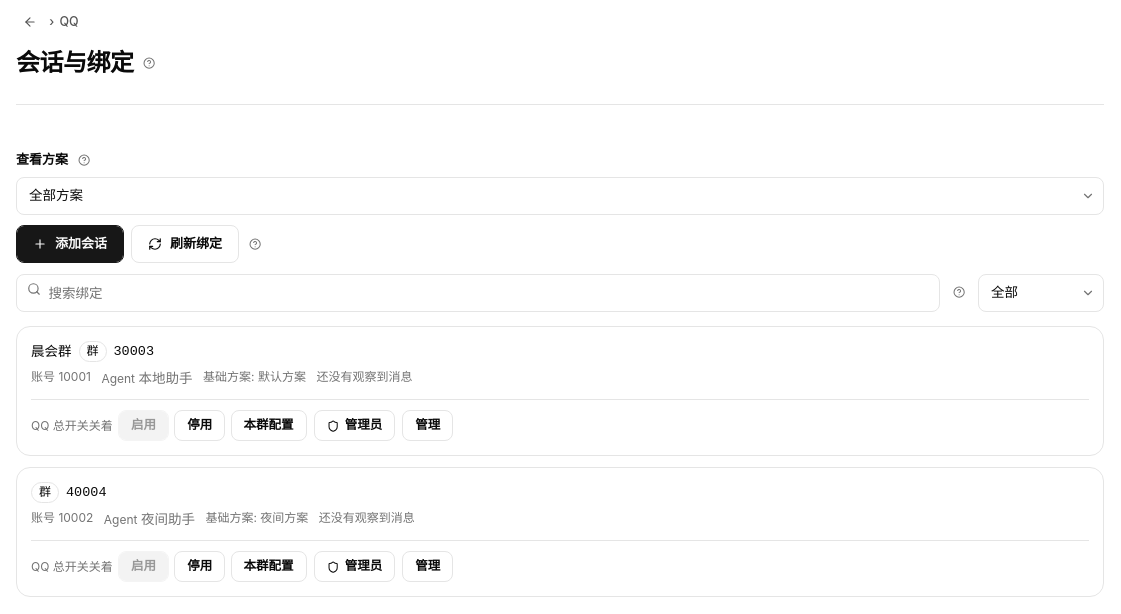
搜索命中显示名、群号、账号、方案名或 Agent 名
This screenshot has width=1121, height=614.
Type "晨会" into the field named "搜索会话绑定" at (478, 292), box [16,274,940,312]
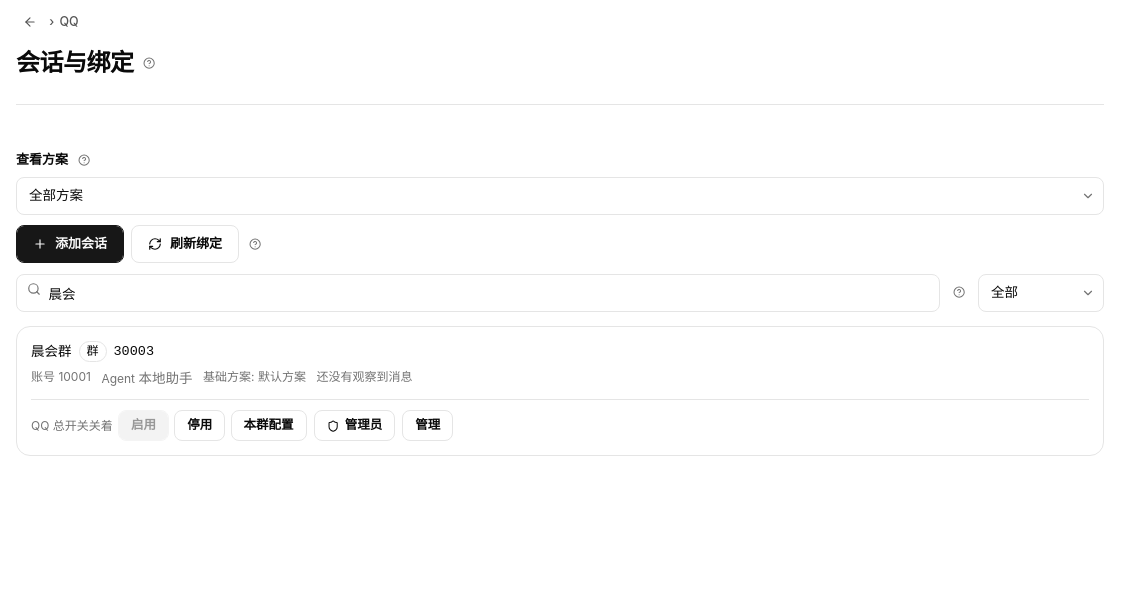
Expected: the text "30003" is shown, [114,342,154,361]
Now the text "40004" is gone
Replace the text in the field named "搜索会话绑定" with "40004" at (478, 292), box [16,274,940,312]
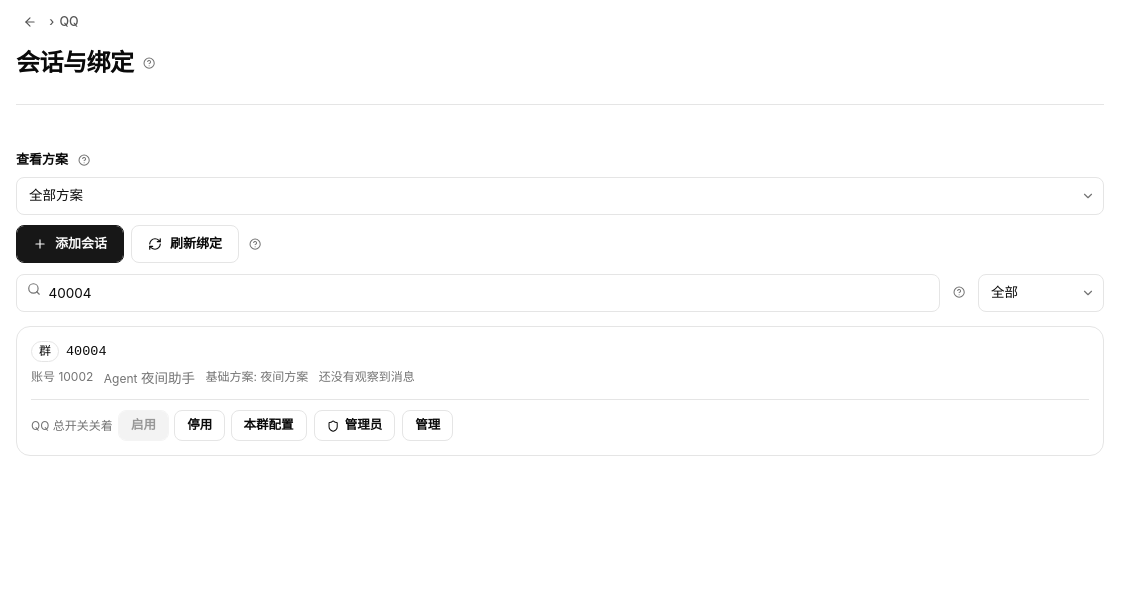
Now the text "30003" is gone
Now the text "40004" is shown, box [66,342,106,361]
Replace the text in the field named "搜索会话绑定" with "10002" at (478, 292), box [16,274,940,312]
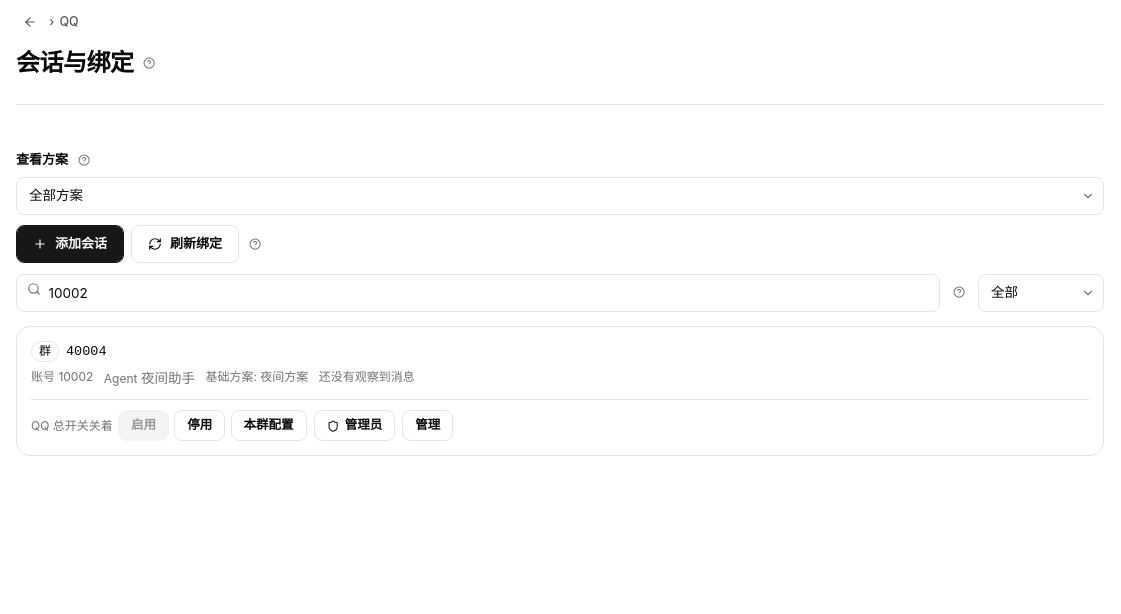
Expected: the text "30003" is not shown
Now the text "40004" is shown, box [66,342,106,361]
Replace the text in the field named "搜索会话绑定" with "夜间方案" at (478, 292), box [16,274,940,312]
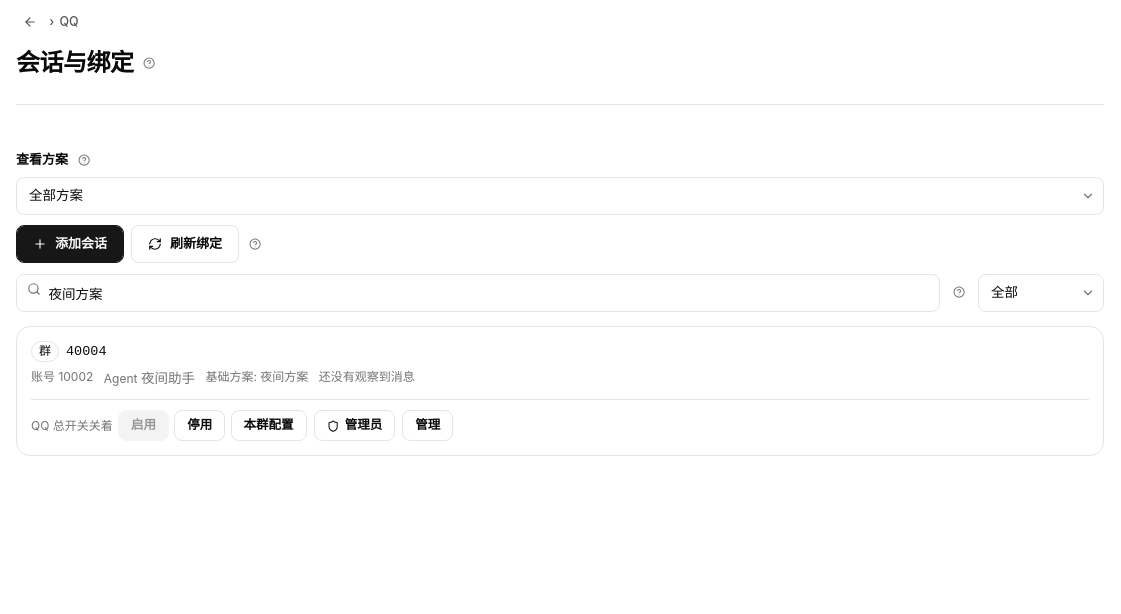
Now the text "40004" is shown, box [66,342,106,361]
Replace the text in the field named "搜索会话绑定" with "本地助手" at (478, 292), box [16,274,940,312]
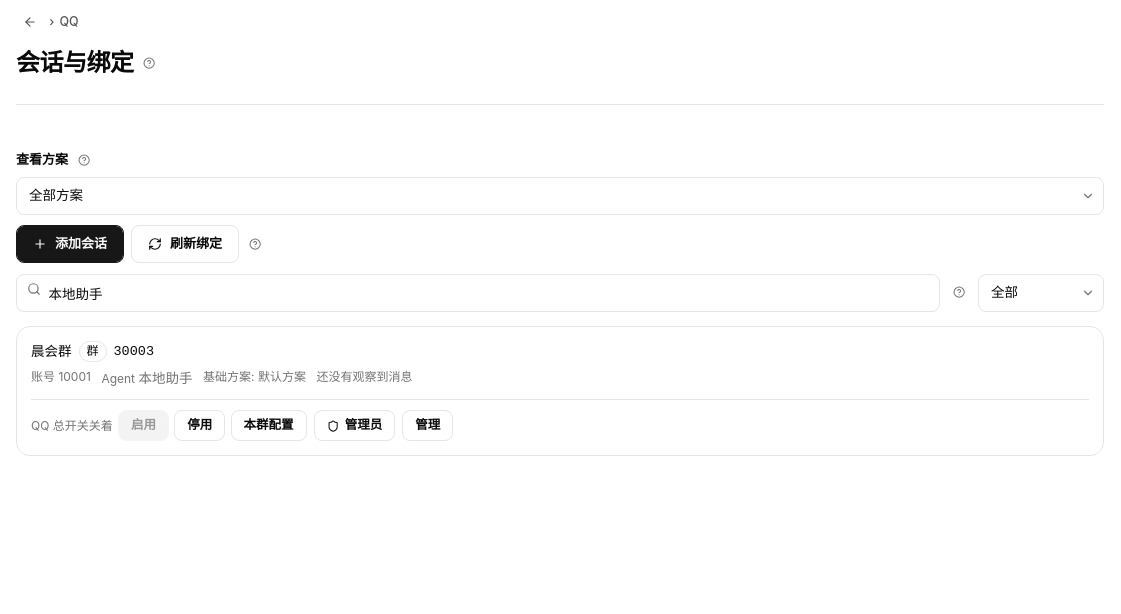
Now the text "30003" is shown, box [114,342,154,361]
Now the text "40004" is gone
Replace the text in the field named "搜索会话绑定" with "没有这个群" at (478, 292), box [16,274,940,312]
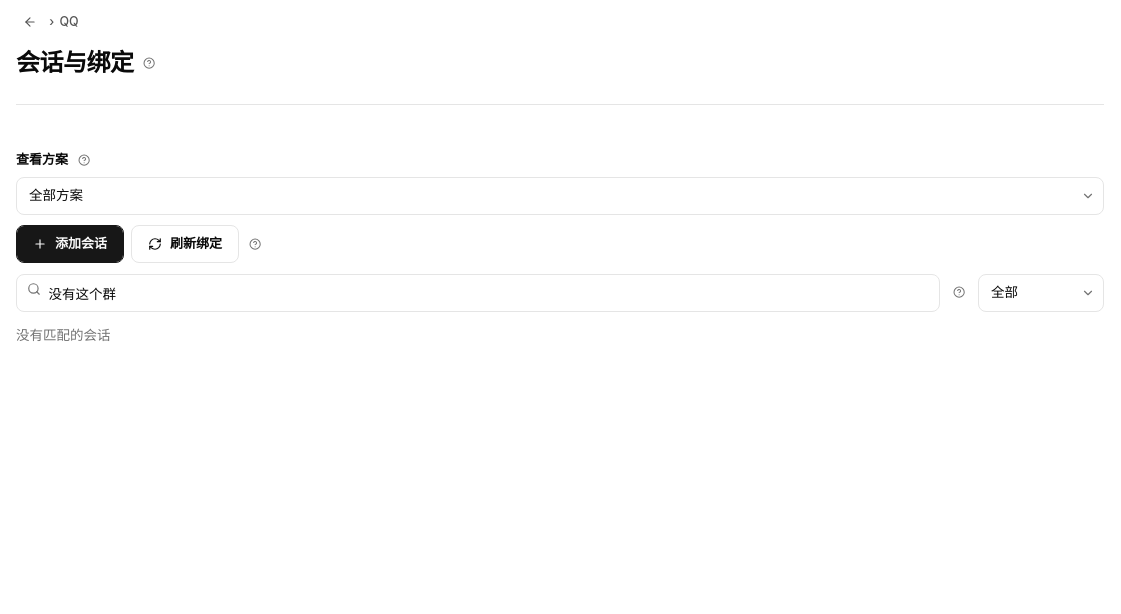
Now the text "没有匹配的会话" is shown, box [16,326,110,342]
